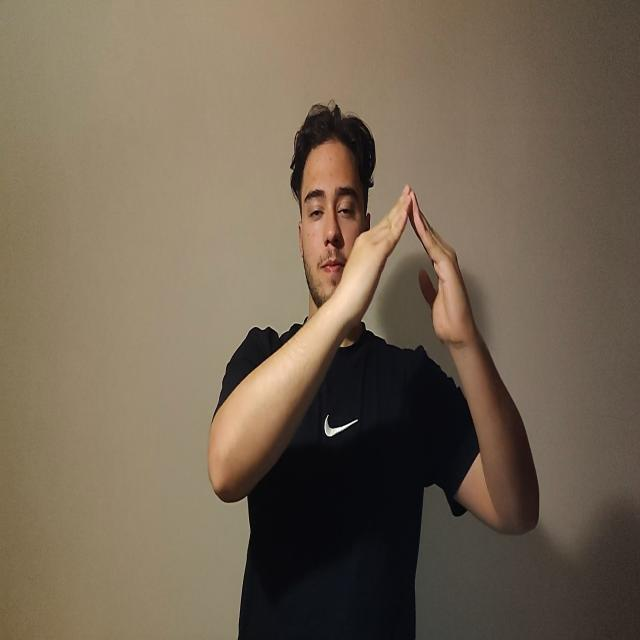house: (342, 187, 475, 355)
